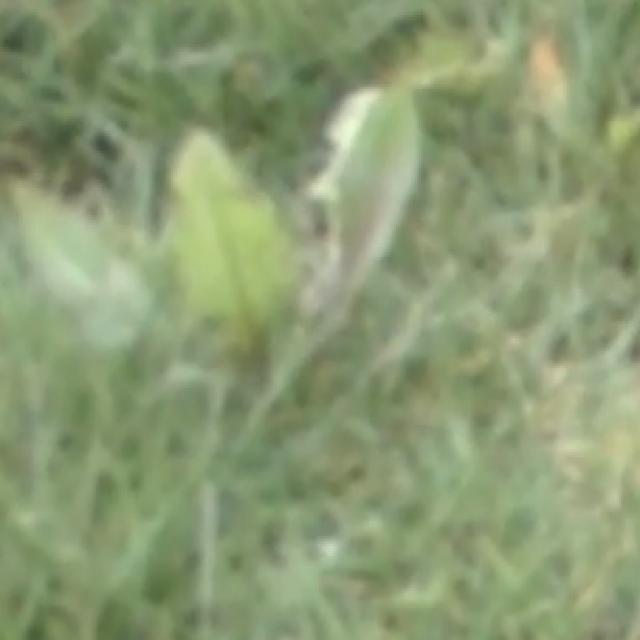organic waste: (27, 40, 494, 443)
